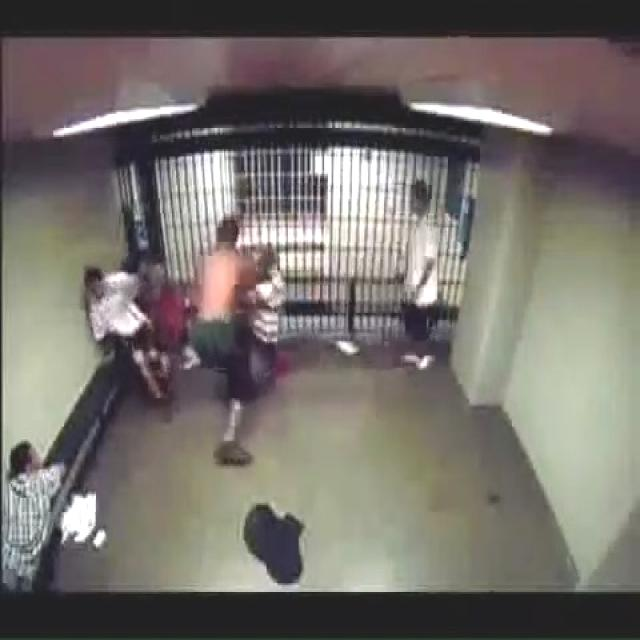fight: (187, 210, 287, 472)
